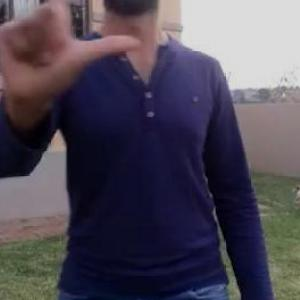land_hand: (0, 0, 149, 108)
